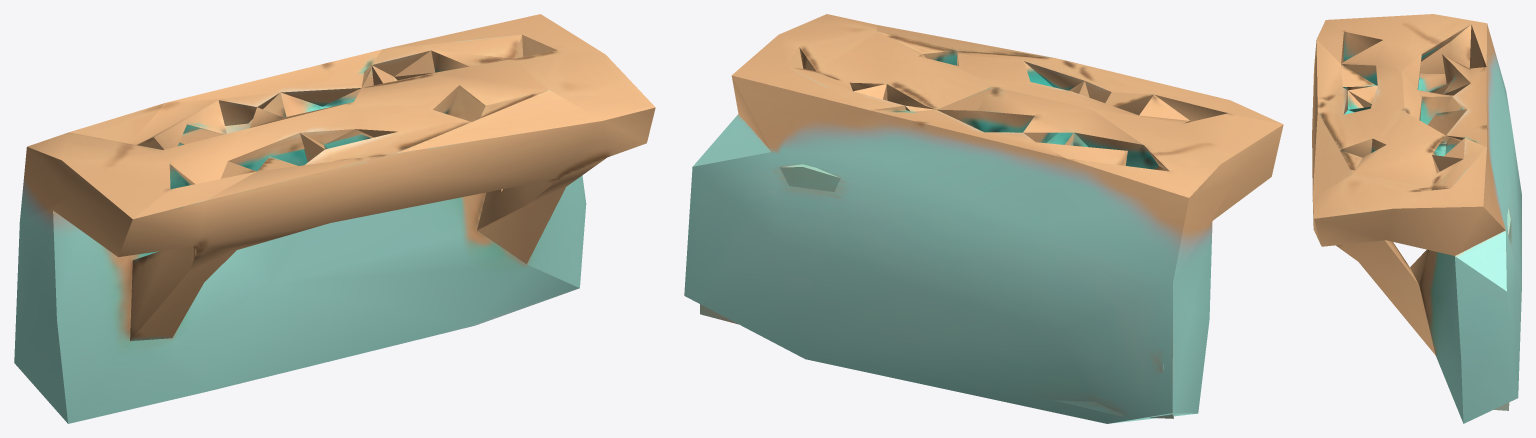
The model's file is seavilla-arched-shelf.glb.
3 views of the same model, side by side, from view 1: azimuth 30°, elevation 25°; view 2: azimuth 150°, elevation 25°; view 3: azimuth 270°, elevation 25° (orthographic). The views are drawn at different scales.
Visible parts, largest first — view 1: geometry_0; view 2: geometry_0; view 3: geometry_0.
Part boxes in pixels (box(x1,y1,x2,y2)): geometry_0: box(14, 14, 655, 423); geometry_0: box(684, 14, 1283, 423); geometry_0: box(1312, 14, 1521, 423).
Bounding box in the file's own units: 1 × 0.5005 × 0.4351.
Materials: 1 (1 with a texture image).
